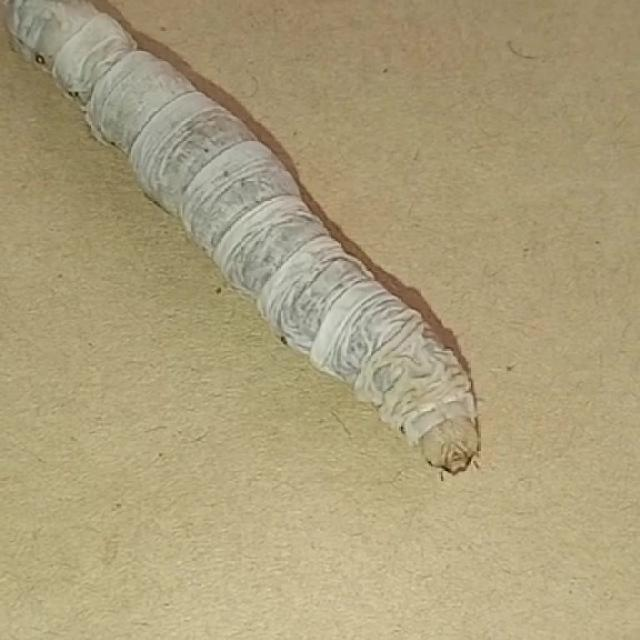Grasserie: (5, 0, 498, 498)
